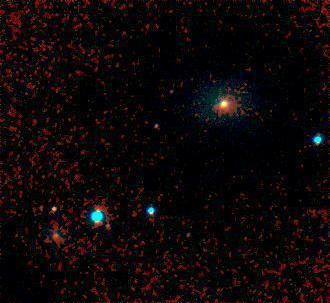star: (97, 211, 127, 241)
